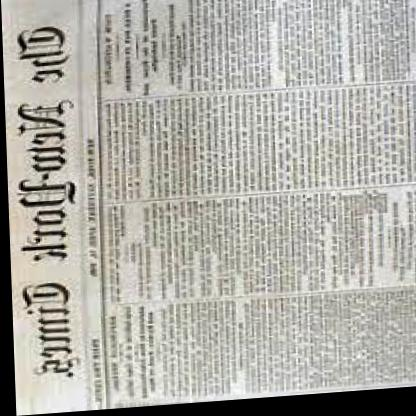Paper: (10, 0, 416, 408)
